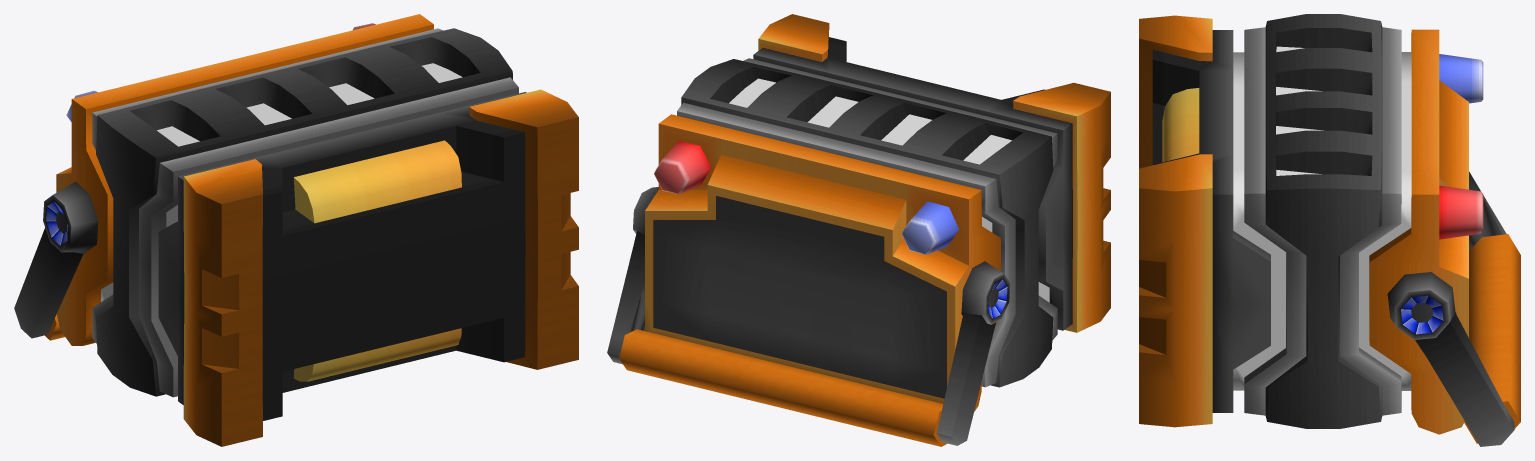
The model's file is Battery_Car.fbx.
3 renders of one model, left to right at view 1: azimuth 30°, elevation 25°; view 2: azimuth 150°, elevation 25°; view 3: azimuth 270°, elevation 25°, orthographic. The views are drawn at different scales.
Visible parts, largest first — view 1: CarBattery; view 2: CarBattery; view 3: CarBattery.
Boxes of the visible parts, x1=… form: CarBattery: x1=14, y1=14, x2=578, y2=446; CarBattery: x1=607, y1=14, x2=1110, y2=446; CarBattery: x1=1139, y1=14, x2=1520, y2=446.
Size of the model in its own units: 5.91 by 3.84 by 5.09.
Materials: 2 (1 with a texture image).
